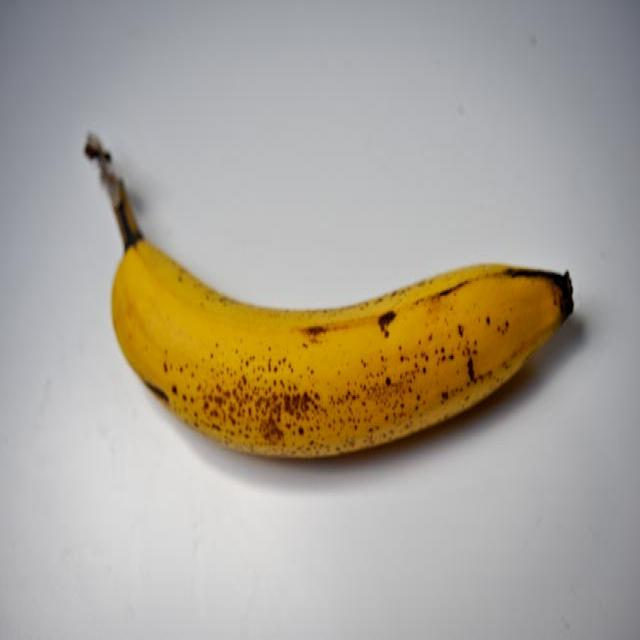Banana: (89, 137, 578, 472)
